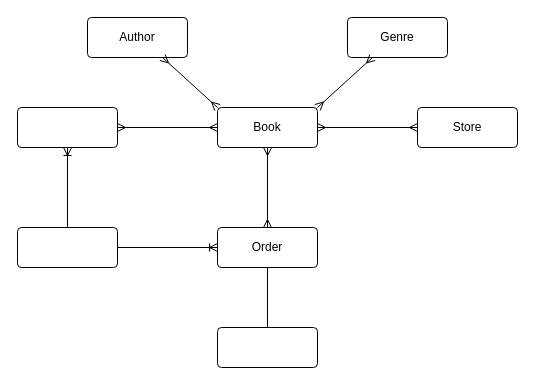
Image size: 535x386. Some labels were removed from this diagram. Each missing label, with the centre of its shape:
Customer: (67,247)
Invoice: (267,347)
Wishlist: (67,127)
